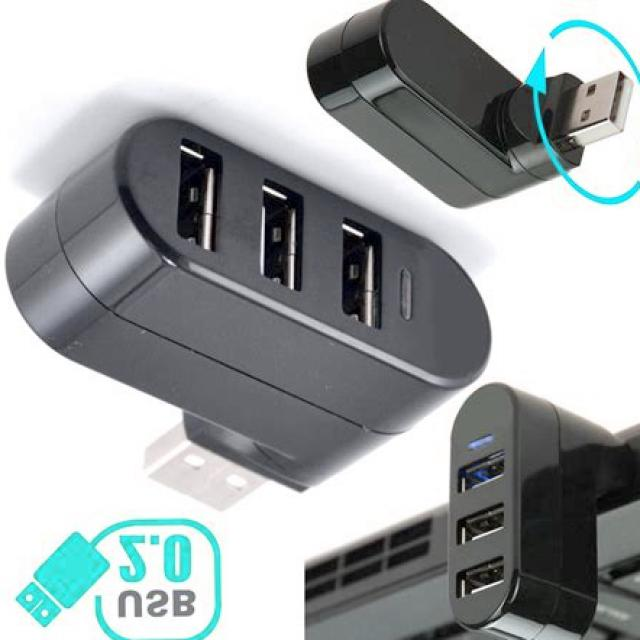usb port: (330, 225, 387, 332), (168, 145, 224, 245), (256, 177, 306, 285), (454, 554, 506, 604), (456, 455, 511, 498), (458, 508, 512, 550)
